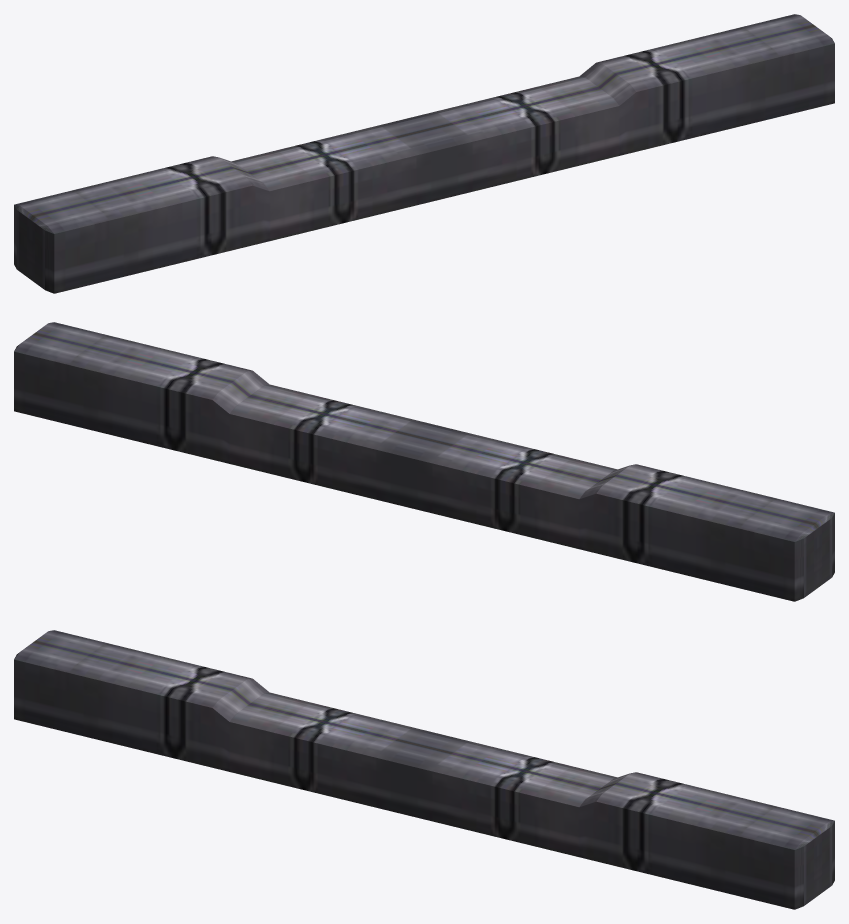
The model's file is 铁轨枕木.obj.
3 renders of one model, top to bottom at view 1: azimuth 30°, elevation 25°; view 2: azimuth 150°, elevation 25°; view 3: azimuth 330°, elevation 25°, orthographic.
Parts seen in each view (by area): view 1: Box012; view 2: Box012; view 3: Box012.
Boxes of the visible parts, x1,y1,x2,y2 form: Box012: (14, 14, 834, 293); Box012: (14, 322, 834, 601); Box012: (14, 630, 834, 909).
Bounding box in the file's own units: 2.5 × 0.1913 × 0.2214.
